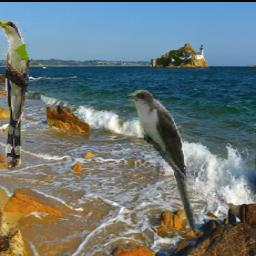Cuckoo: (126, 87, 199, 235), (0, 21, 28, 167)
